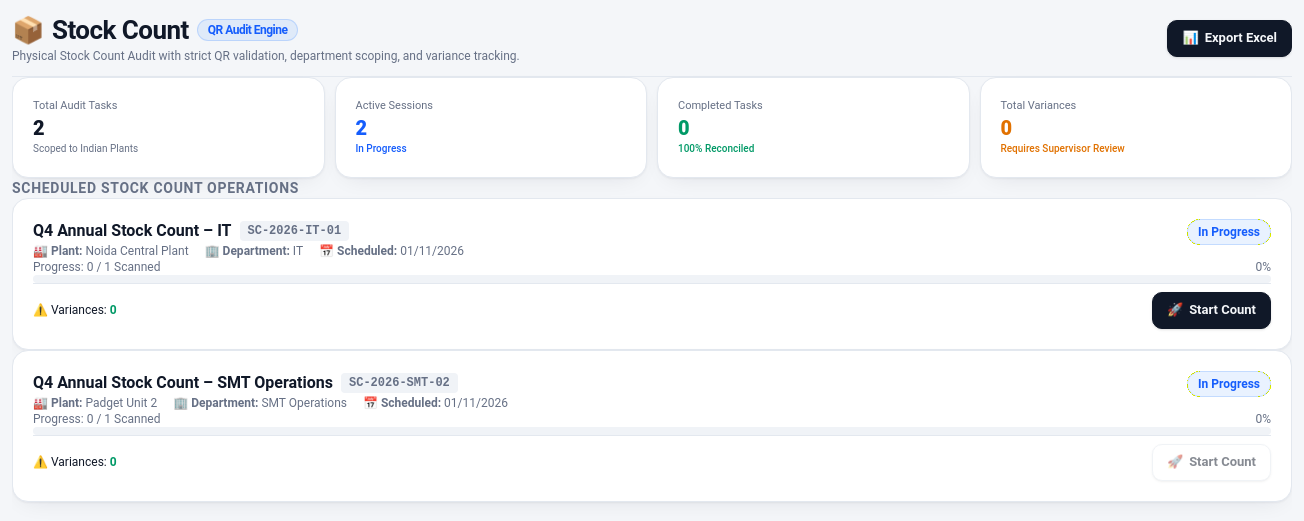
Test: Stock Count Verification Workflow with Strict QR Rules › Flow Step 1: User clicks "Start Count" and loads only assets assigned to that Stock Count, Plant, Department, and User
Expected: the heading "Q4 Annual Stock Count – IT" is shown, [33,219,232,243]
Expected: the 2nd button "🚀 Start Count" is disabled, [1152,444,1271,480]
// Click "Start Count" on IT task
Step 1. Click the 1st button "🚀 Start Count" → (1211, 310), box [1152,292,1271,329]
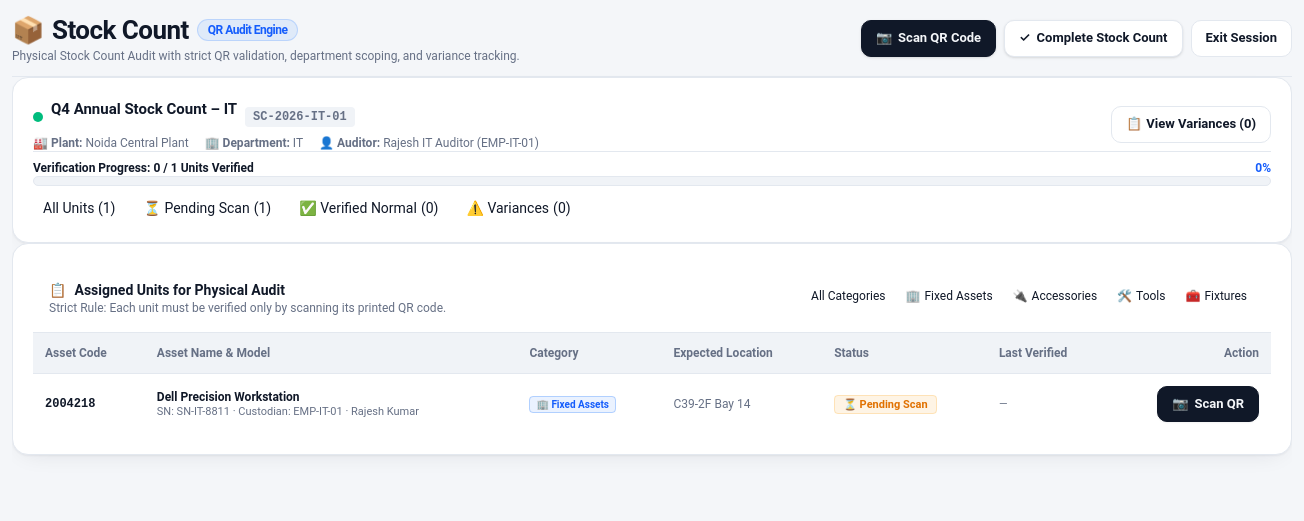
Result: the text "Verification Progress: 0 / 1 Units Verified" is shown at [33,160,254,176]
Result: the text "2004218" is shown at [33,374,145,434]
Result: the text "Dell Precision Workstation" is shown at [157,390,300,404]
